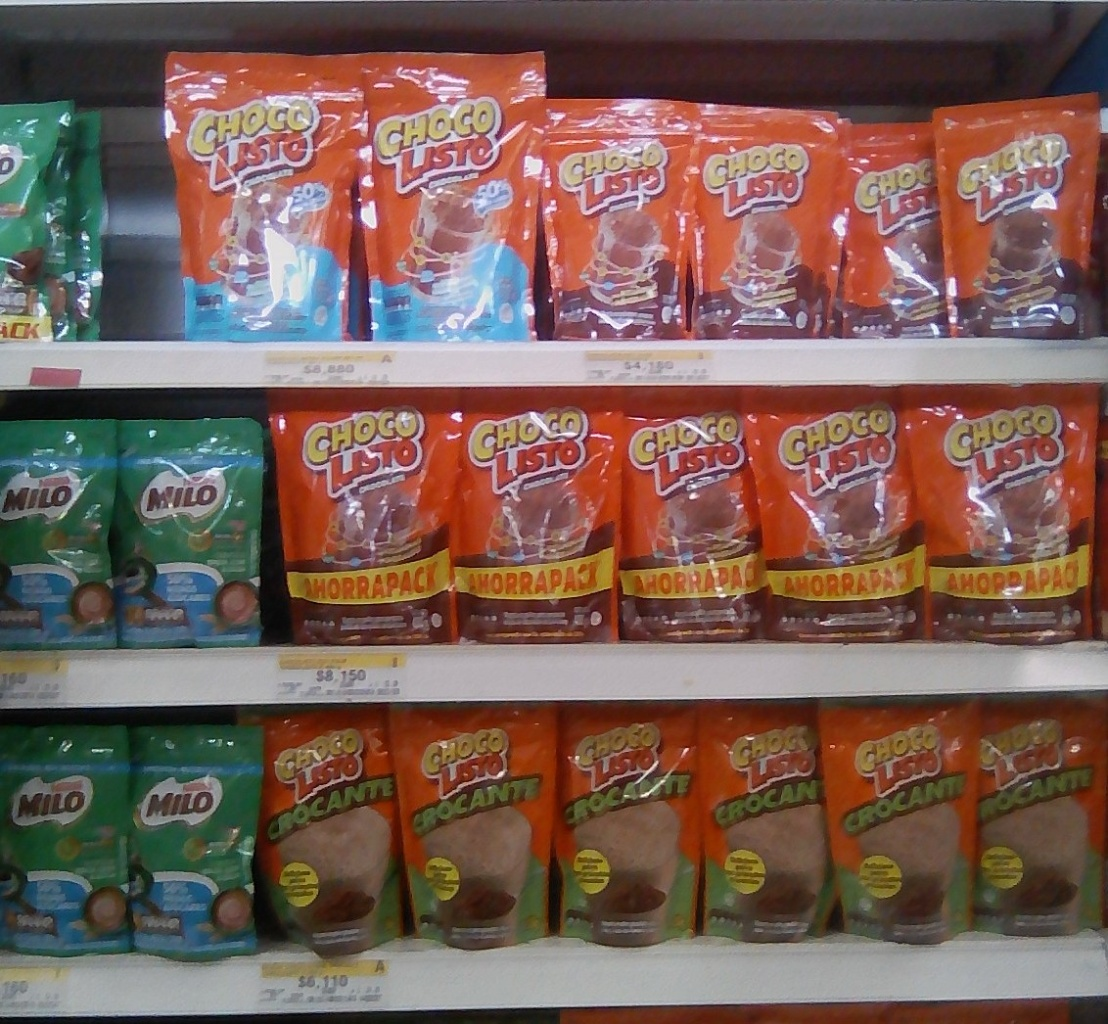COL0170102DYP25000: (238, 710, 411, 954)
COL0170103DYP20000: (544, 95, 696, 339)
COL0170103DYP44000: (269, 388, 464, 645)
COL0170205DYP20000: (1, 418, 124, 652)
